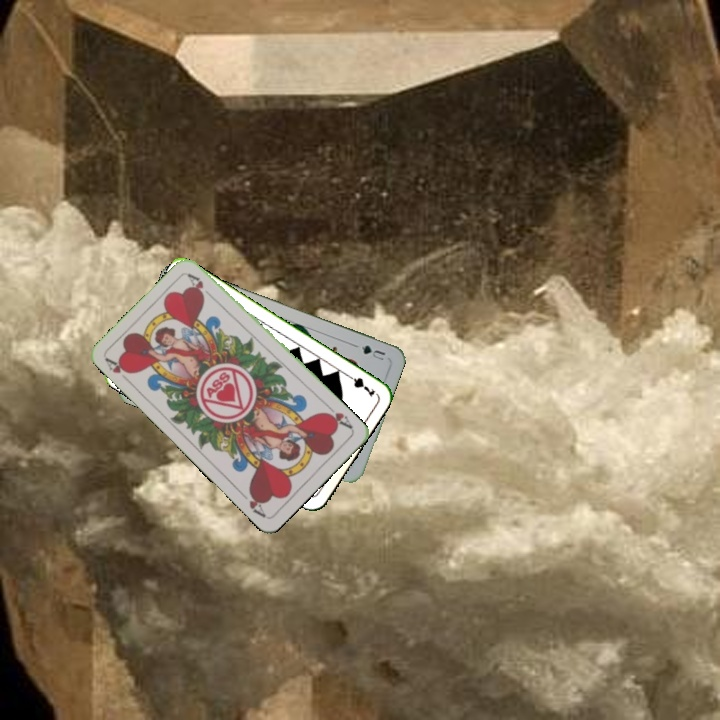G7: (341, 370, 378, 400)
GU: (356, 341, 388, 363)
HA: (319, 401, 356, 432), (101, 354, 135, 387)
